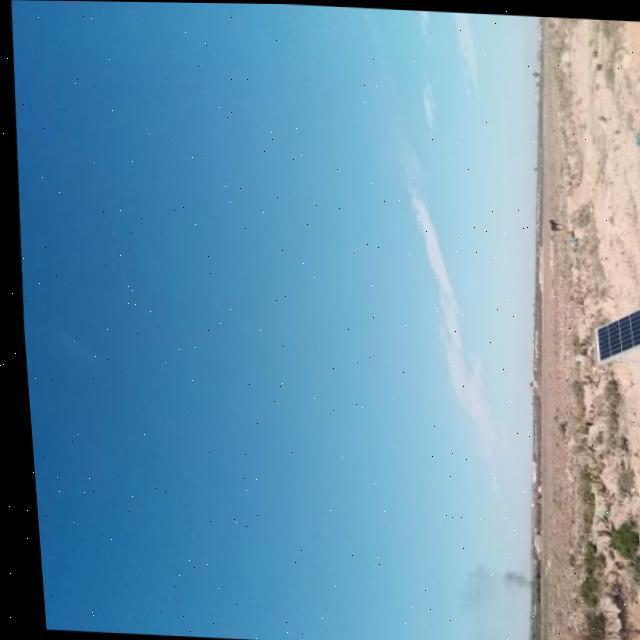Normal Solar Panel: (585, 296, 640, 363)
